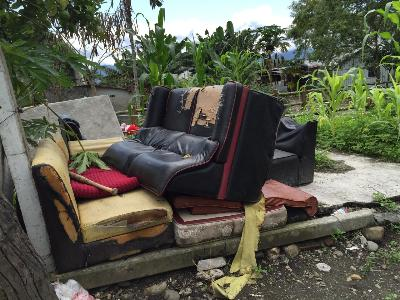plastic_bag: (55, 278, 96, 300)
